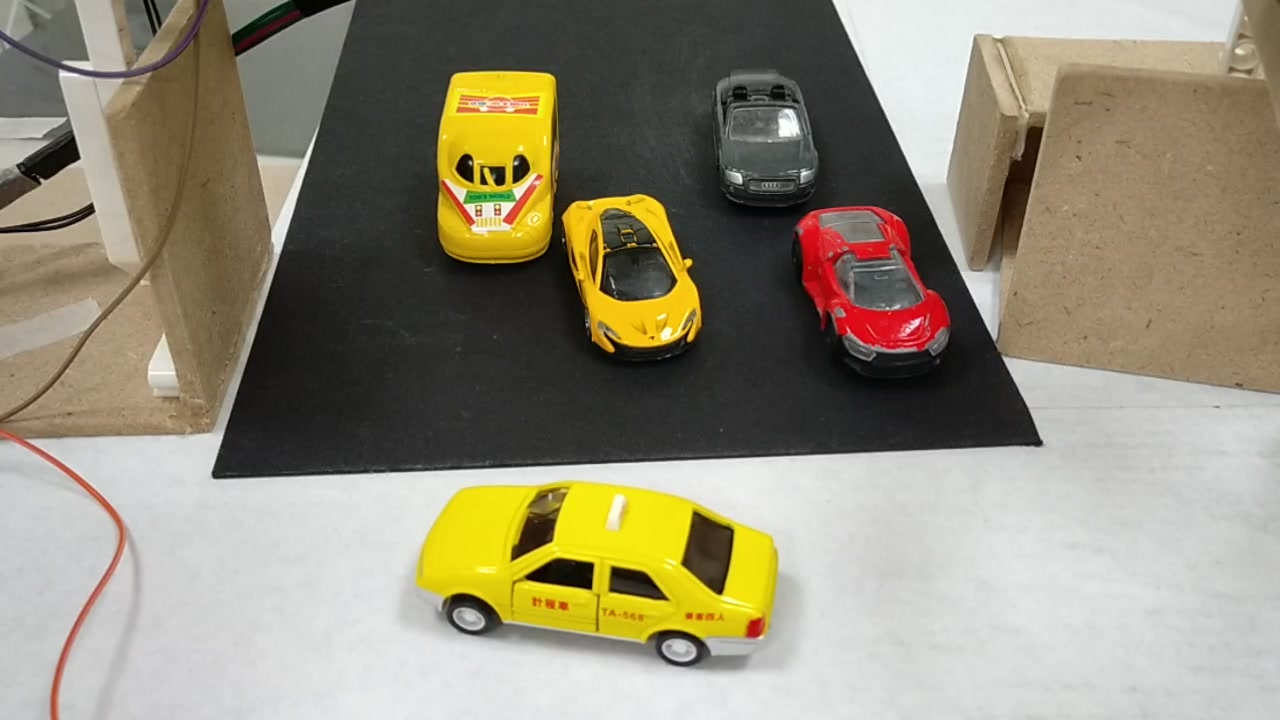car: (409, 483, 780, 662), (797, 206, 956, 378), (562, 193, 703, 362), (710, 70, 824, 206)
